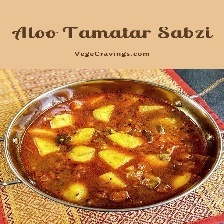sabzi: (11, 84, 216, 211)
